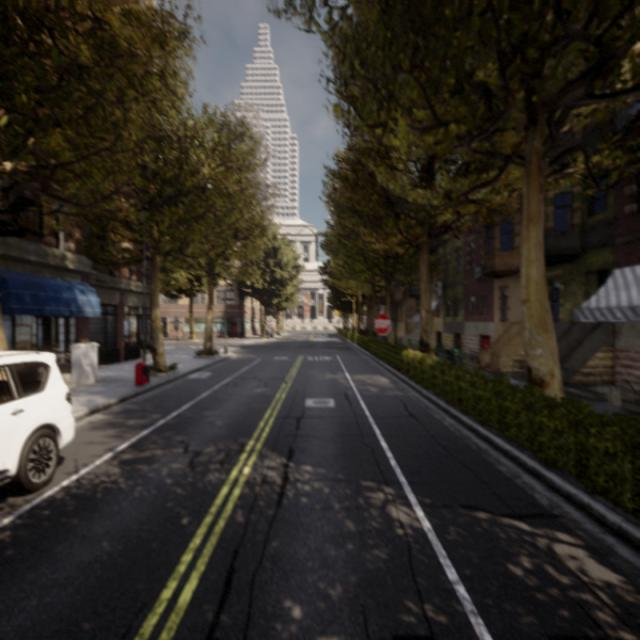stop sign: (371, 308, 393, 337)
